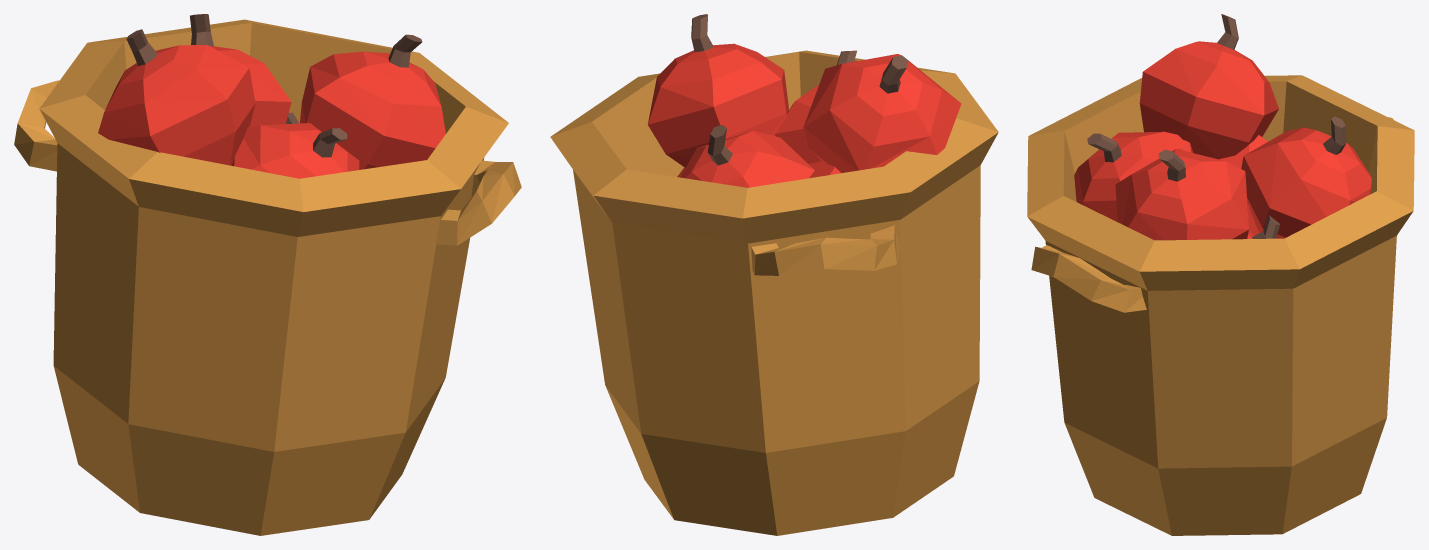
The model's file is food.glb.
The picture shows the model from 3 angles, left to right: view 1: azimuth 30°, elevation 25°; view 2: azimuth 150°, elevation 25°; view 3: azimuth 270°, elevation 25°; orthographic projection. The views are drawn at different scales.
Parts seen in each view (by area): view 1: group483531598; view 2: group483531598; view 3: group483531598.
Boxes of the visible parts, left/top/right/bottom form: group483531598: left=14, top=14, right=521, bottom=535; group483531598: left=550, top=14, right=998, bottom=535; group483531598: left=1027, top=14, right=1414, bottom=535.
Bounding box in the file's own units: 3.66 × 4.4 × 3.67.
